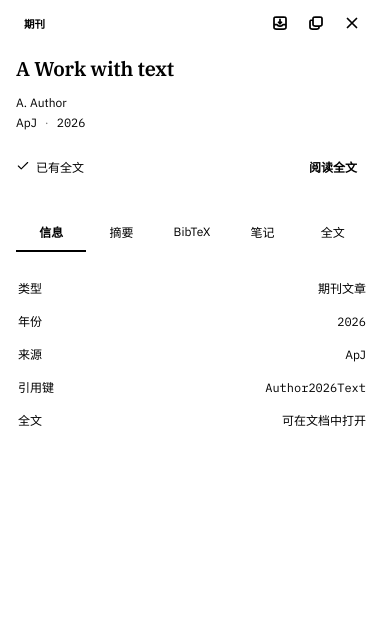
Test: RefDetail text Docs (ticket 25) › shows a creation failure and does not open anything
The width and height of the screenshot is (385, 629).
Click the tab "全文". click: click(333, 233)
box: [298,214,368,252]
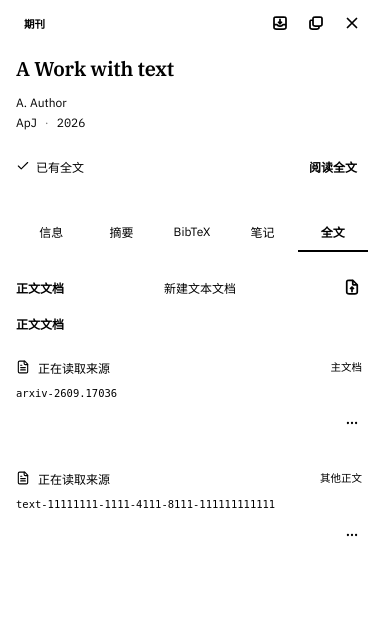
Click the button "新建文本文档". click: click(200, 287)
box: [153,271,247,303]
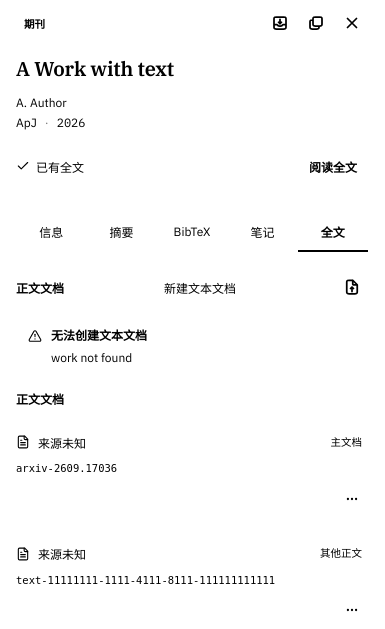
Check: the text "work not found" is shown, box [51,350,132,365]
